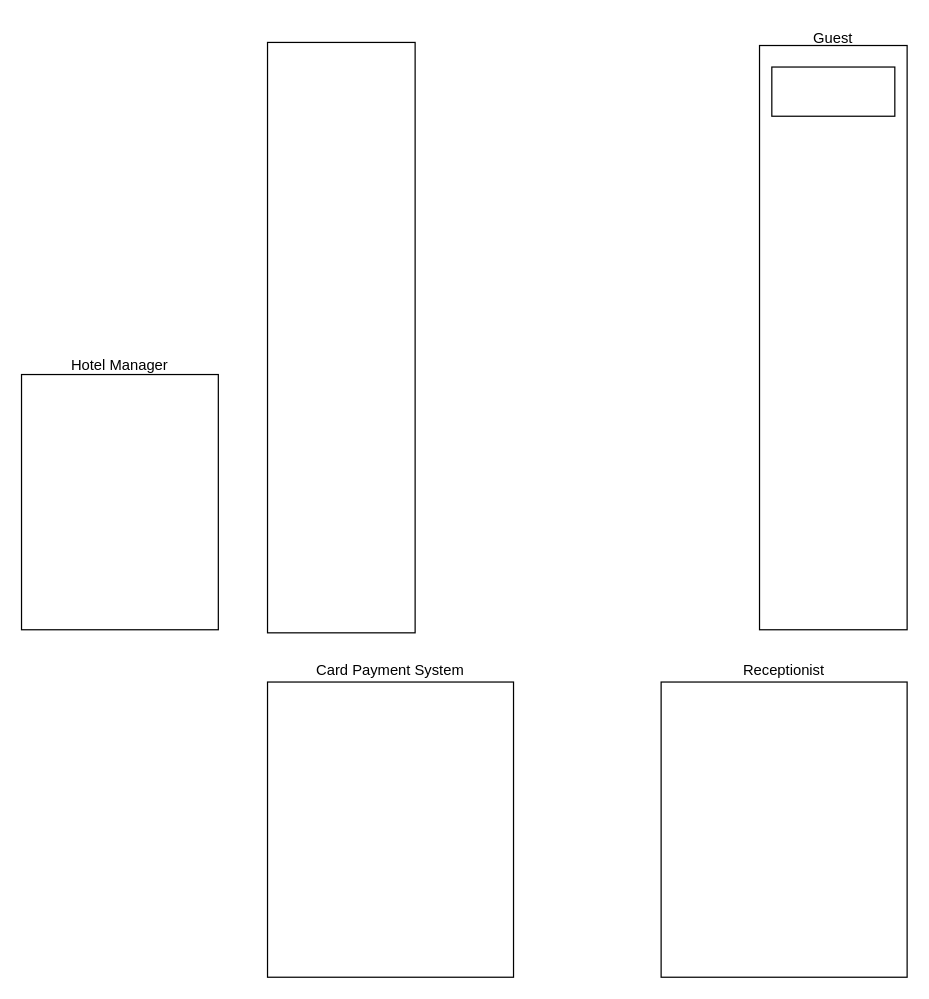
Some shapes in this 929 by 999 pixel diagram are drawn without their labels. Here are the shapes that lost their labels. From the top down, the centre of each, then its label:
the point at 833,91: Start: Visit hotel website
the point at 340,337: Hotel System
